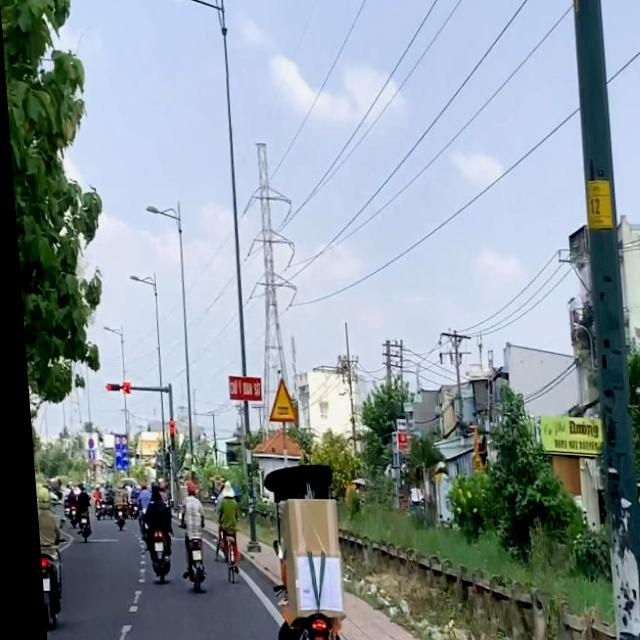Giao nhau voi duong sat co rao chan: (258, 374, 293, 424)
